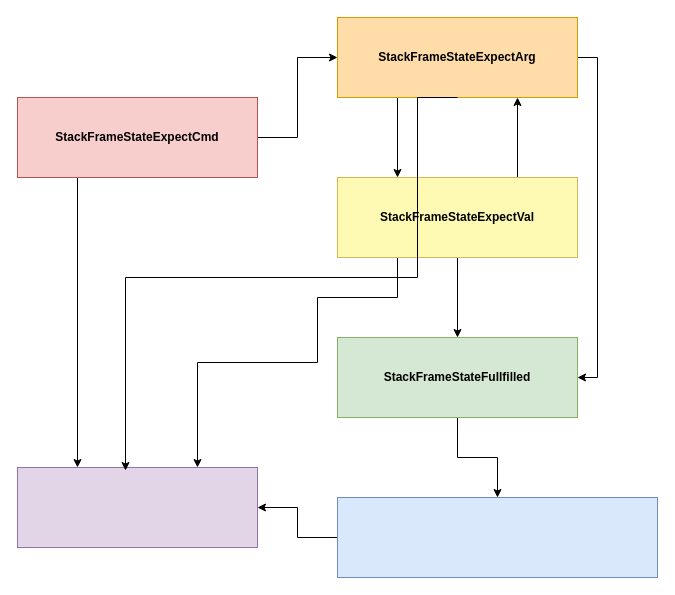
Image size: 675x595. Some labels were removed from this diagram. The box of each missing label's shape, as (x1, y1, x2, y2) in pixels:
StackFrameStateExpectCmdAfterFullfill: (336, 496, 658, 578)
StackFrameStateIsClosing: (16, 466, 258, 548)
